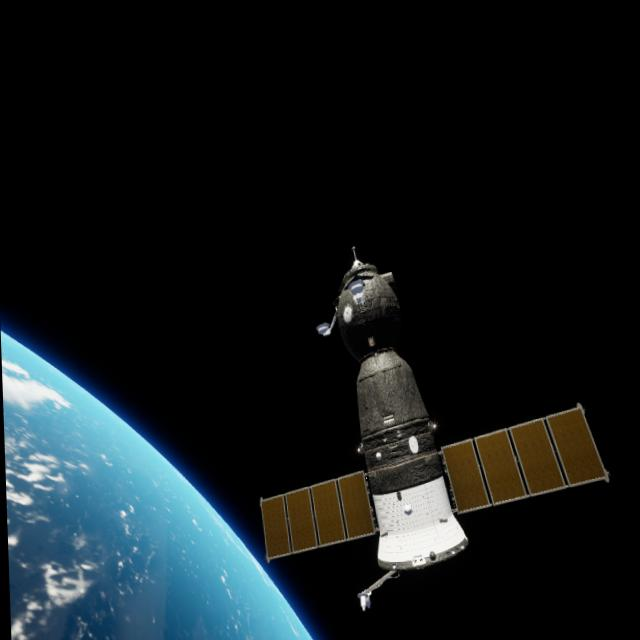Satellites revolving around earth: (248, 234, 616, 616)
